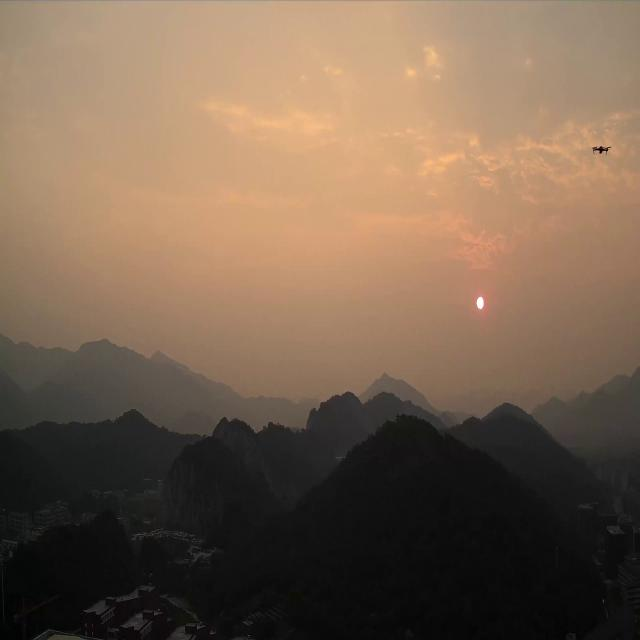drone: (592, 144, 612, 155)
